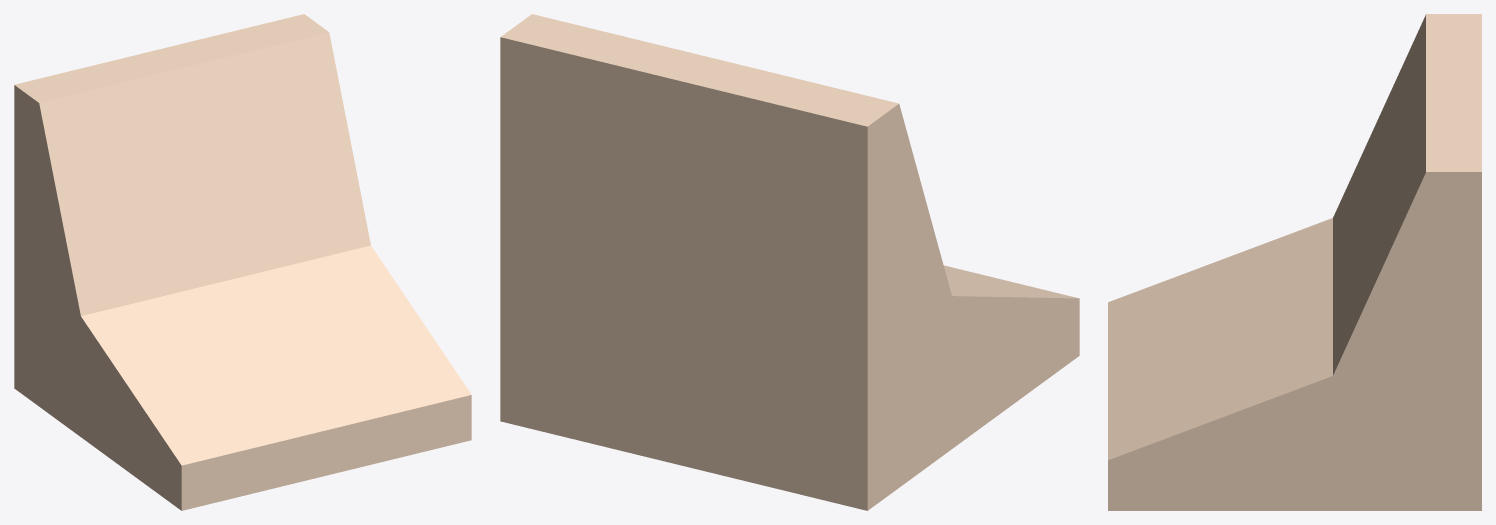
File: Abstract_Castle_Block_Single_Curve_Cream_01.fbx
3 views of the same model, side by side, from view 1: azimuth 30°, elevation 25°; view 2: azimuth 150°, elevation 25°; view 3: azimuth 270°, elevation 25° (orthographic). The views are drawn at different scales.
Parts seen in each view (by area): view 1: Model; view 2: Model; view 3: Model.
Boxes of the visible parts, x1=… form: Model: x1=14, y1=14, x2=471, y2=510; Model: x1=500, y1=14, x2=1079, y2=510; Model: x1=1108, y1=14, x2=1481, y2=510.
Bounding box in the file's own units: 1000 × 1000 × 1000.
